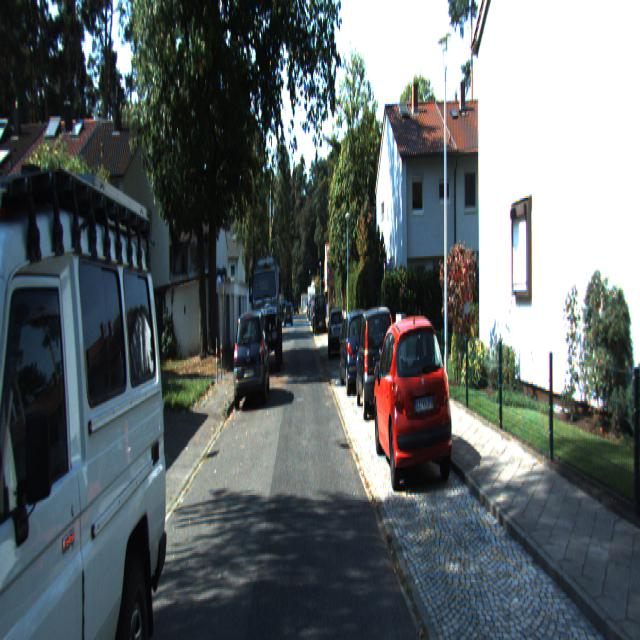Car: (0, 67, 172, 638), (369, 309, 454, 500), (353, 303, 398, 417), (233, 305, 270, 407), (251, 252, 283, 364), (338, 311, 374, 401), (327, 307, 345, 360), (313, 292, 326, 333)
